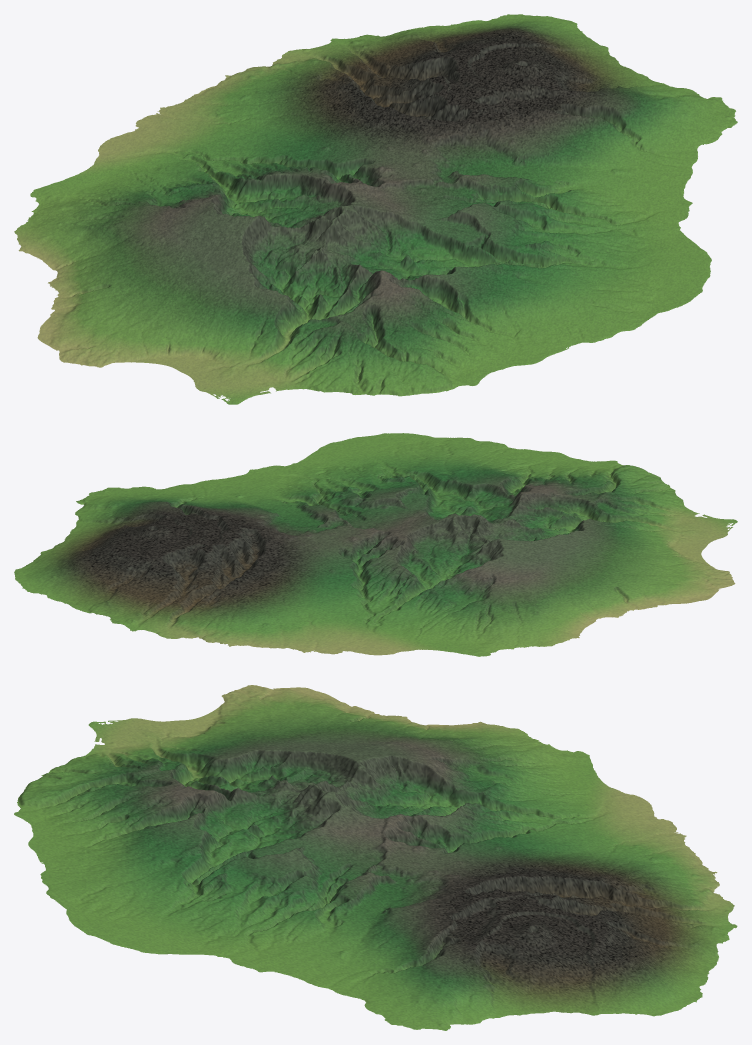
Rendered from lareunion-relief-map.glb.
3 renders of one model, top to bottom at view 1: azimuth 30°, elevation 25°; view 2: azimuth 150°, elevation 25°; view 3: azimuth 270°, elevation 25°, orthographic. The views are drawn at different scales.
Parts seen in each view (by area): view 1: LaReunionRgeAltiTerrain; view 2: LaReunionRgeAltiTerrain; view 3: LaReunionRgeAltiTerrain.
Boxes of the visible parts, x1,y1,x2,y2 form: LaReunionRgeAltiTerrain: (14,14,737,404); LaReunionRgeAltiTerrain: (14,433,737,656); LaReunionRgeAltiTerrain: (14,685,737,1030).
Size of the model in its own units: 203 by 11.09 by 180.
